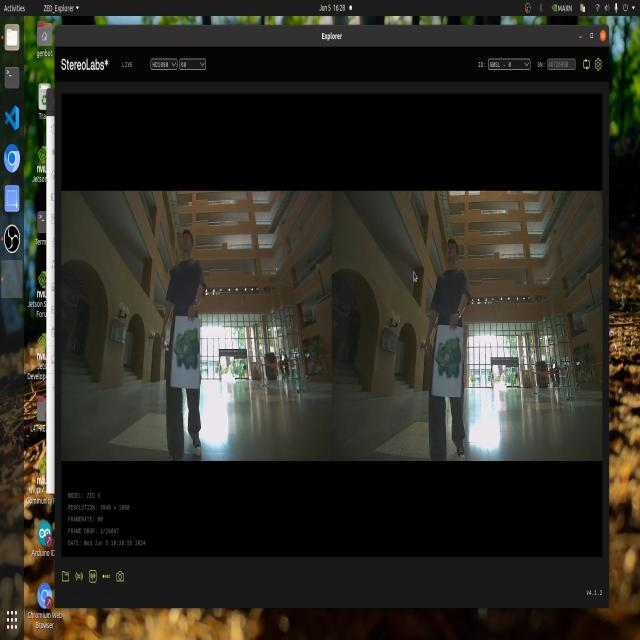green: (430, 329, 464, 387), (178, 329, 204, 364)
